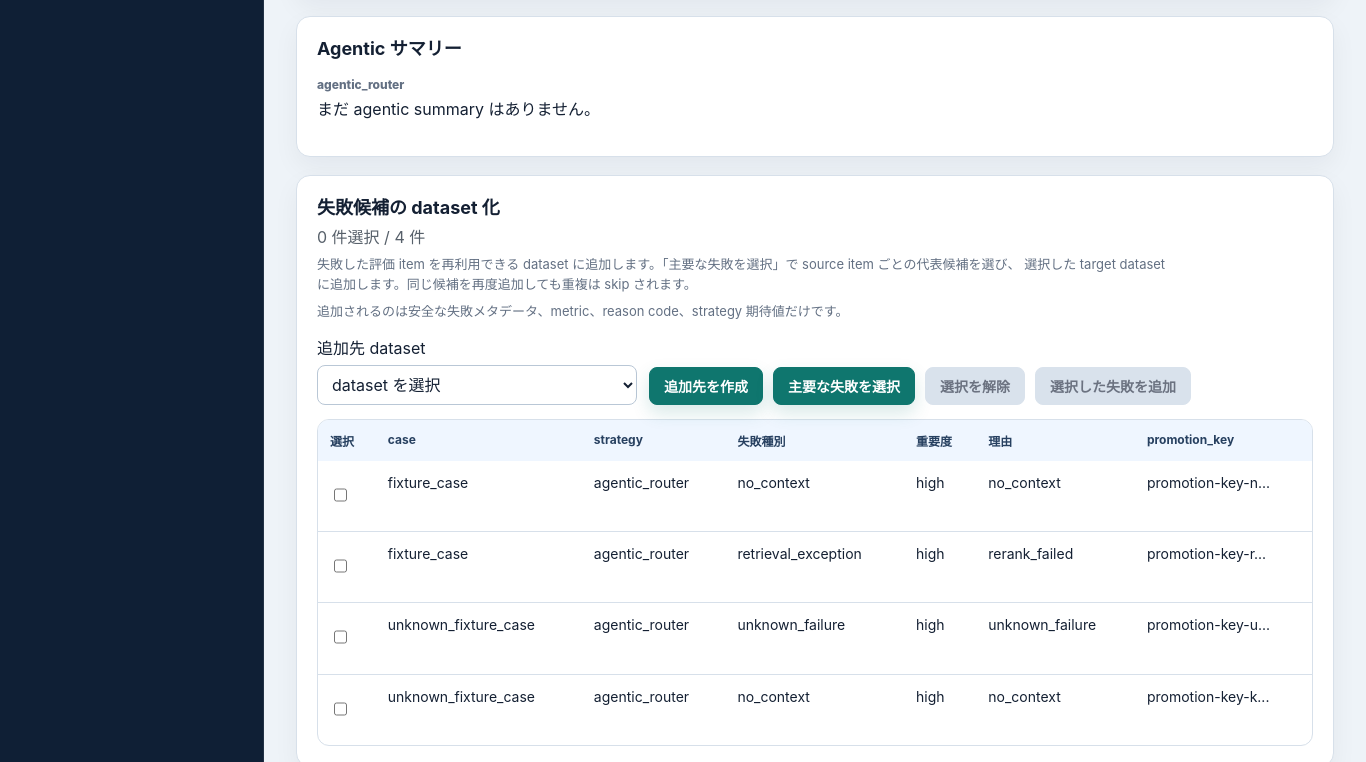
Scenario: evaluation detail promotes fixture failures to selected dataset with backend priority
(page scrolled)
Check: the text "失敗した評価 item" is shown, box top-left (317, 256), bottom-right (1165, 292)
Check: the text "追加されるのは安全な失敗メタデータ、metric、reason code、strategy 期待値だけです。" is shown, box top-left (317, 302), bottom-right (848, 318)
Select "promoted_failures" in the dropdown labelled "追加先 dataset" at (477, 385), box top-left (317, 365), bottom-right (637, 405)
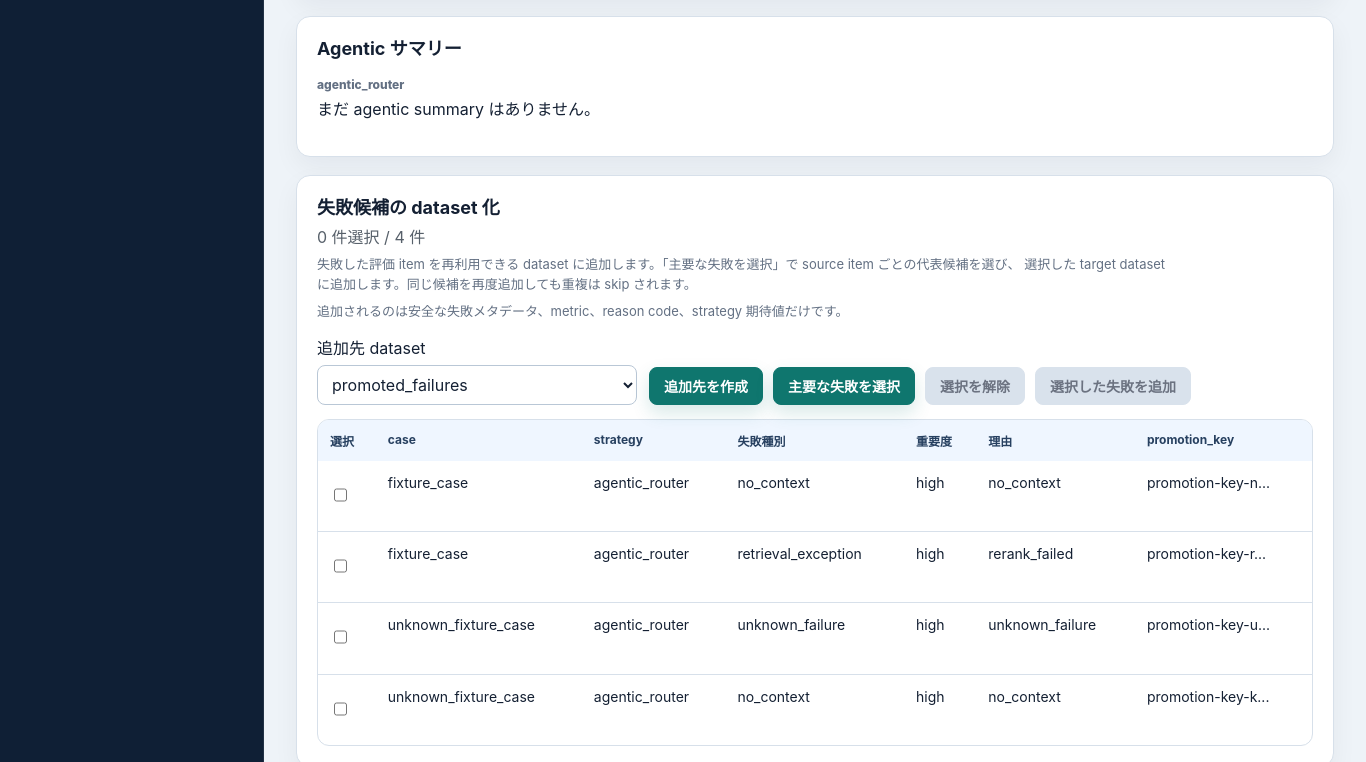
Click the button "主要な失敗を選択" at (844, 386), box top-left (773, 367), bottom-right (915, 405)
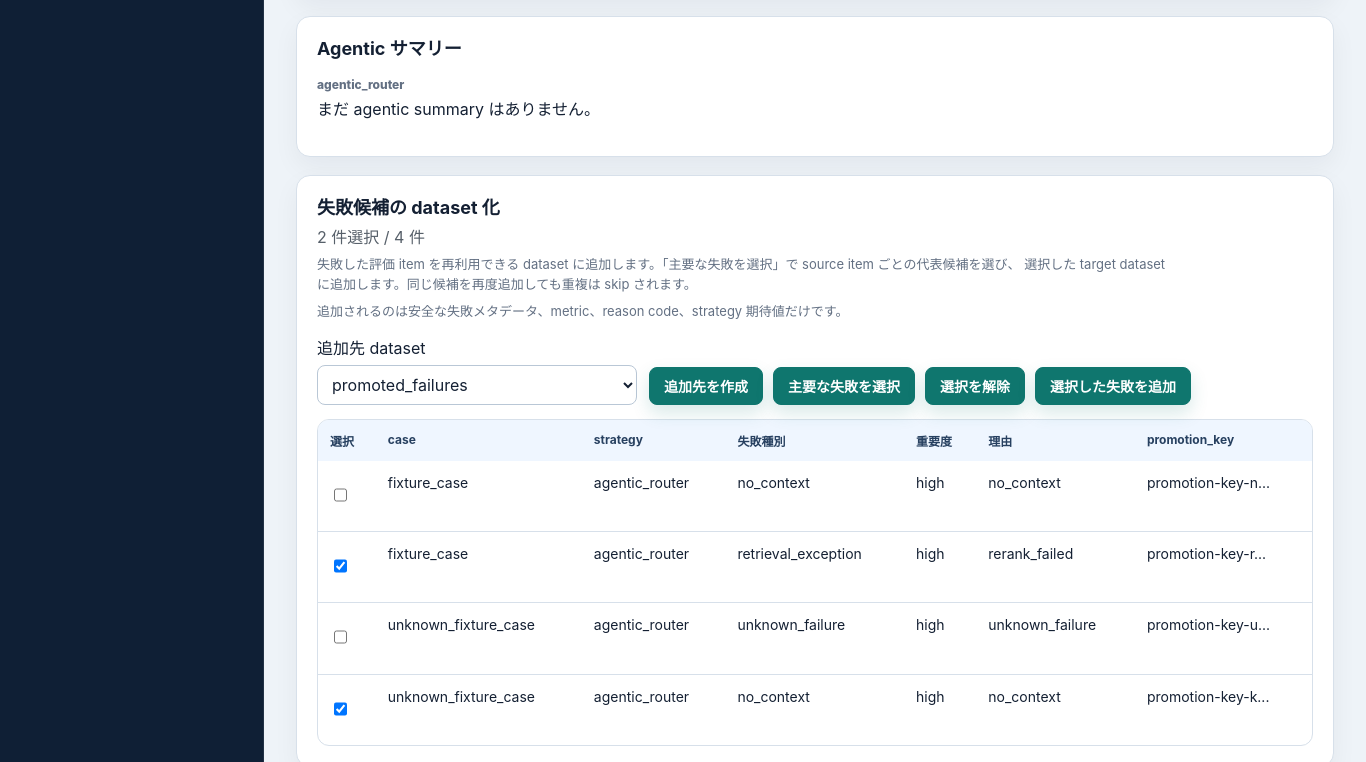
Click the button "選択した失敗を追加" at (1113, 386), box top-left (1035, 367), bottom-right (1191, 405)
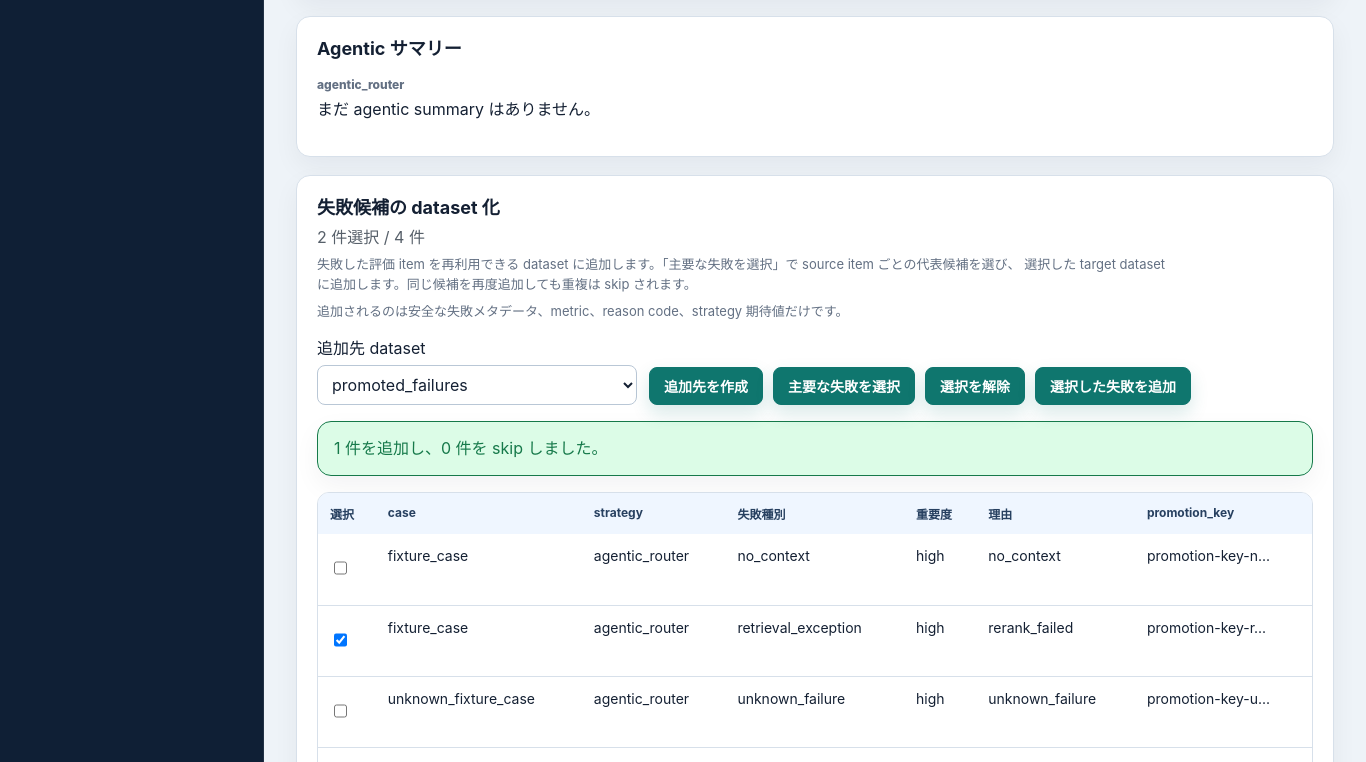
Check: the text "1 件を追加し、0 件を skip しました。" is shown, box top-left (317, 421), bottom-right (1313, 476)
